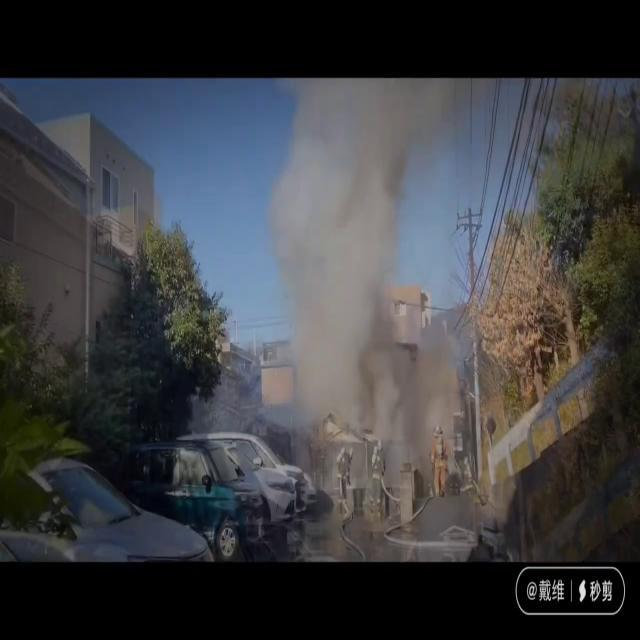Smoke: (262, 78, 452, 496)
